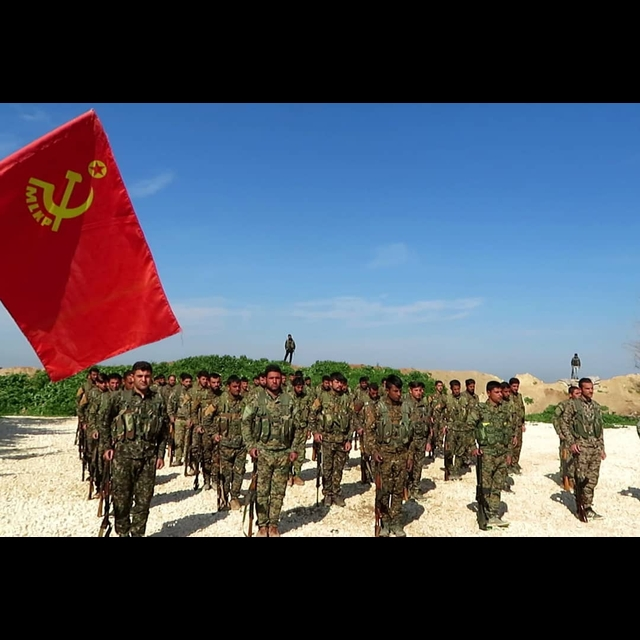AK47: (241, 448, 266, 538), (569, 444, 594, 524), (370, 456, 391, 537), (99, 448, 117, 537), (215, 433, 226, 514)
MLKP: (17, 156, 111, 236)
